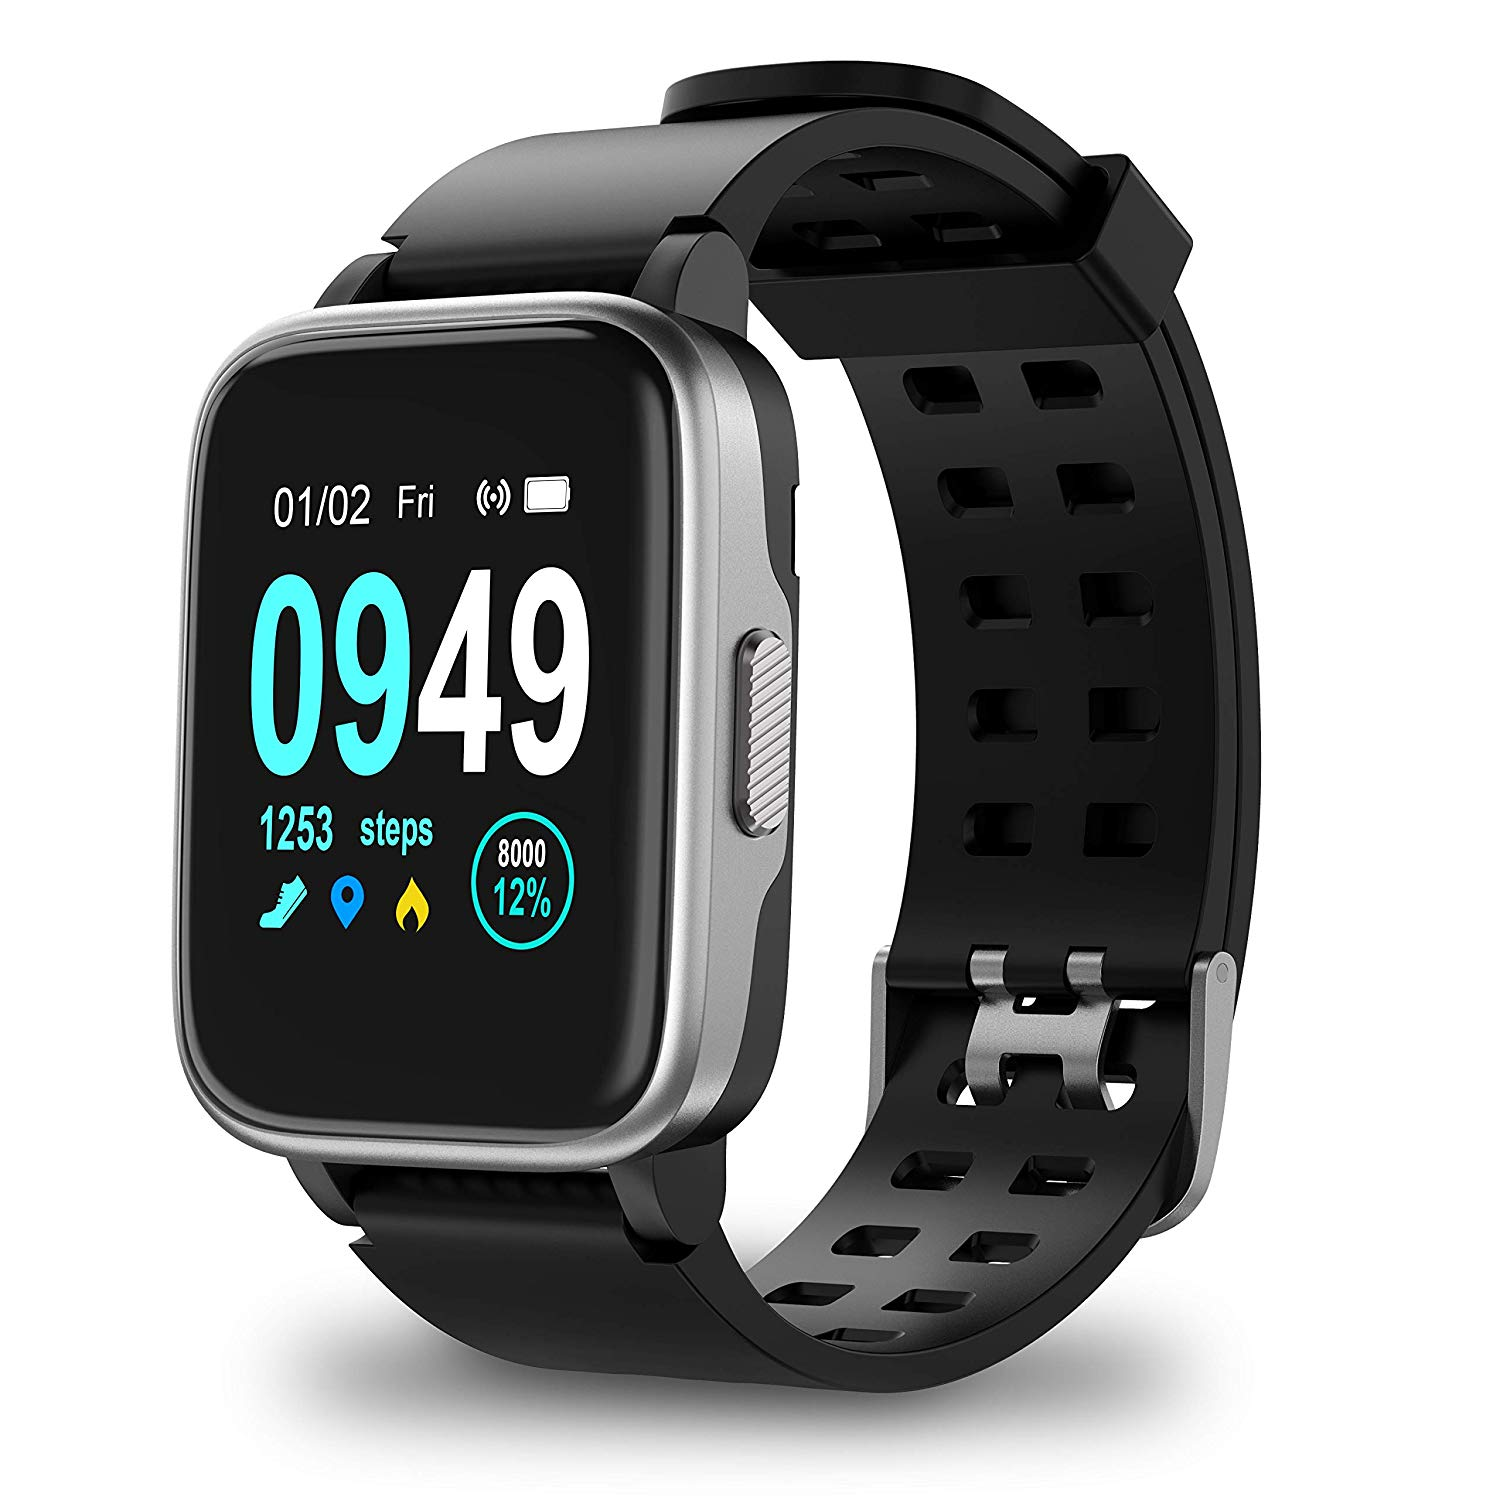Smart Watch: (130, 44, 1352, 1424)
